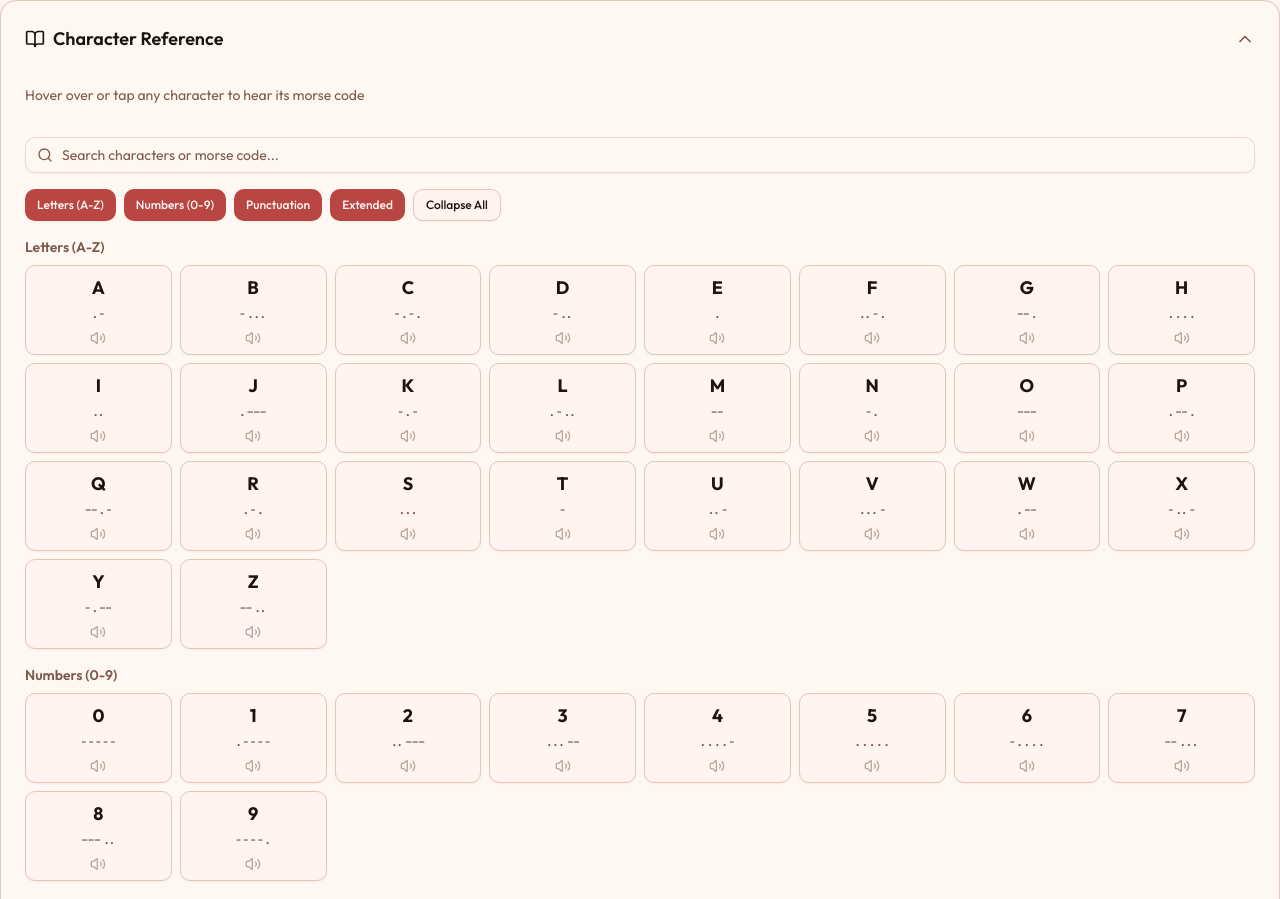
Scenario: CharacterReferenceTable › when expanded › shows no results message when search matches nothing
Type "ZZZZNOTHING" into the field with placeholder "Search characters or morse code..." at (640, 155), box [25, 137, 1255, 173]
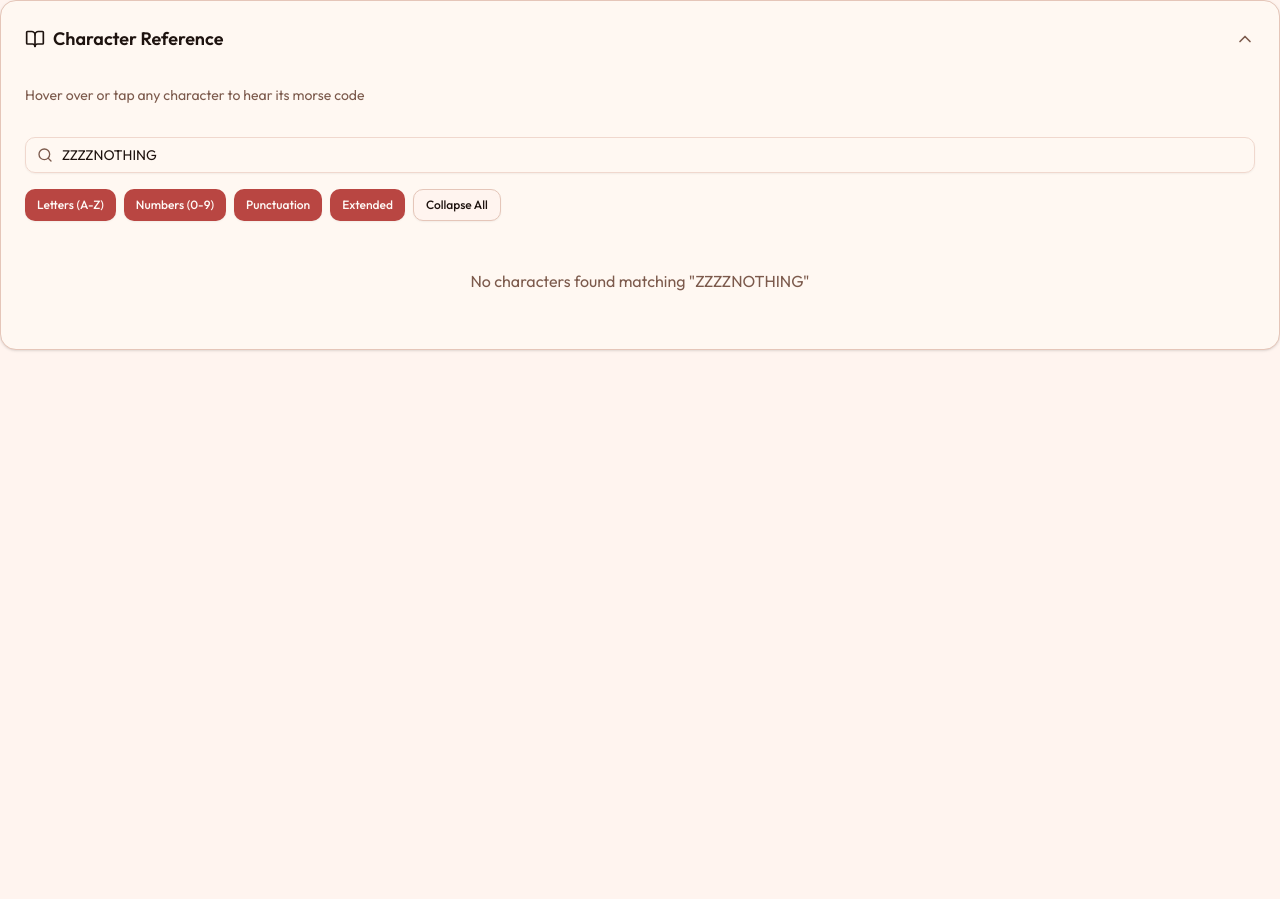
Now the text "No characters found matching \"ZZZZNOTHING\"" is shown, box [470, 271, 810, 291]
